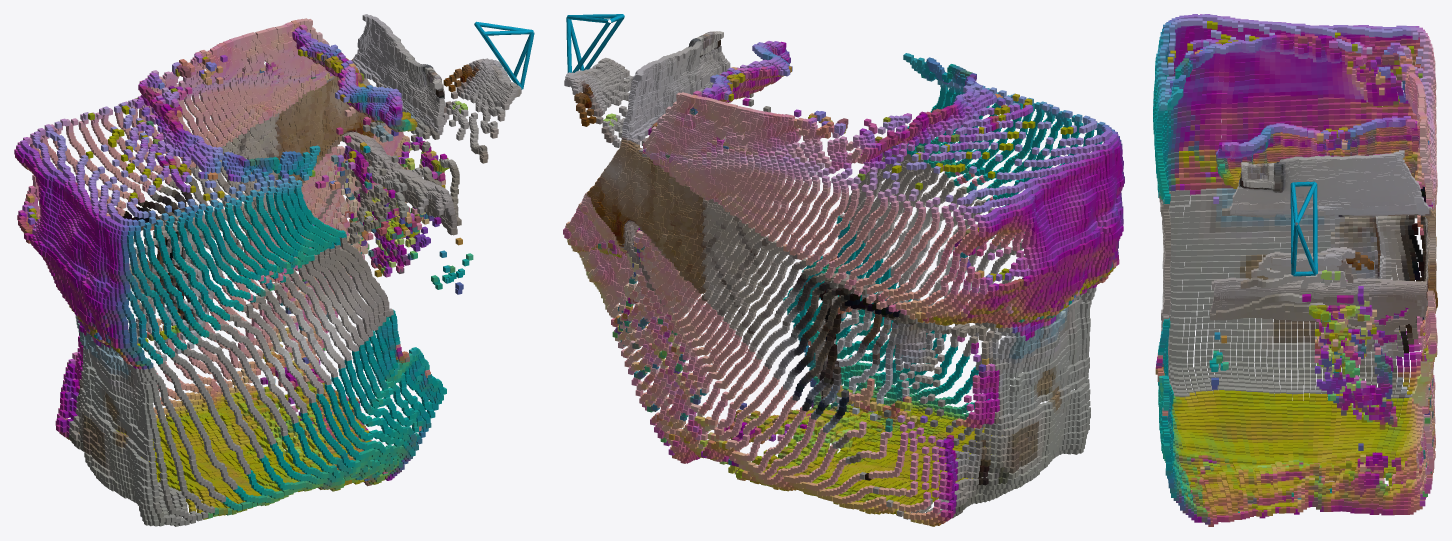
File: pred_0-compressed.glb
3 views of the same model, side by side, from view 1: azimuth 30°, elevation 25°; view 2: azimuth 150°, elevation 25°; view 3: azimuth 270°, elevation 25° (orthographic). The views are drawn at different scales.
Size of the model in its own units: 5.38 by 4.11 by 2.53.
